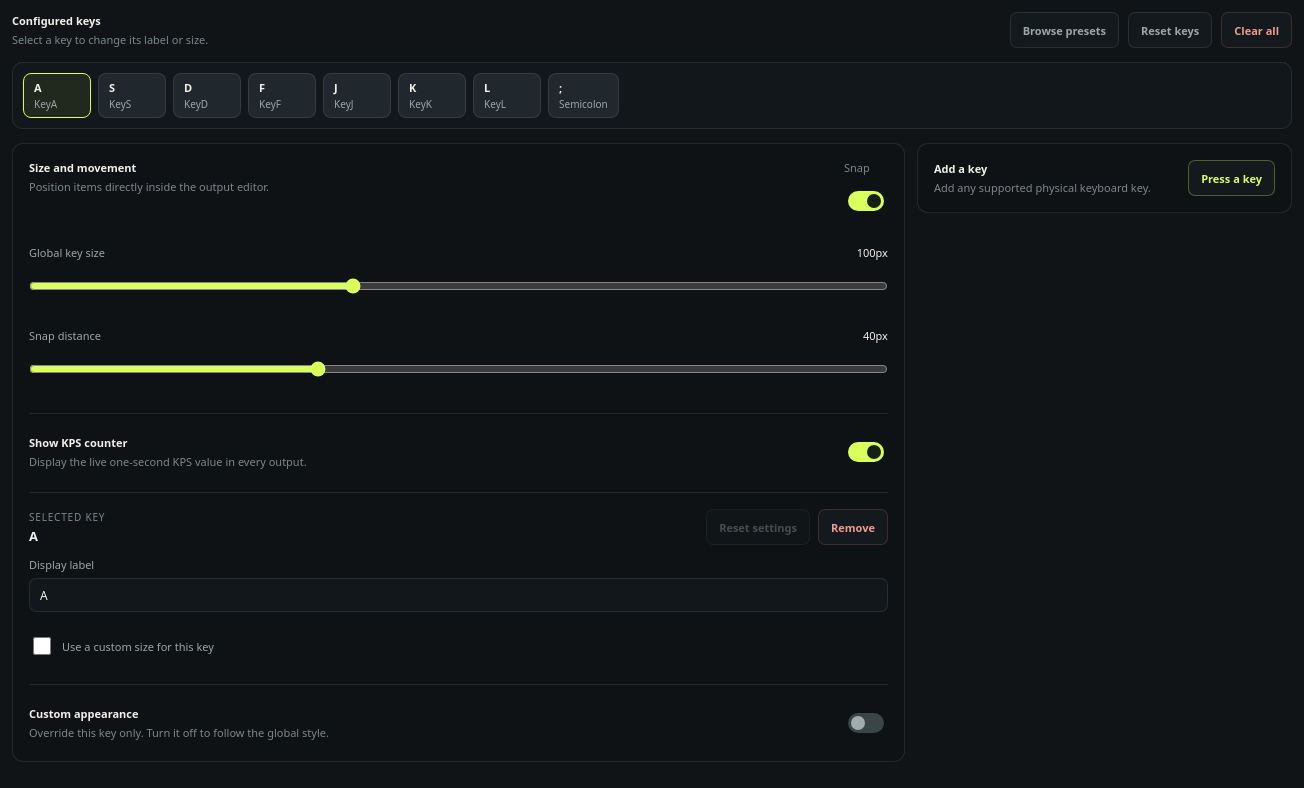
layout confirmation focus management › reset-key cancel returns to reset and completion returns to the label
The width and height of the screenshot is (1304, 788).
Replace the text in the field labelled "Display label" with "Custom" at (458, 595), box [29,578,888,612]
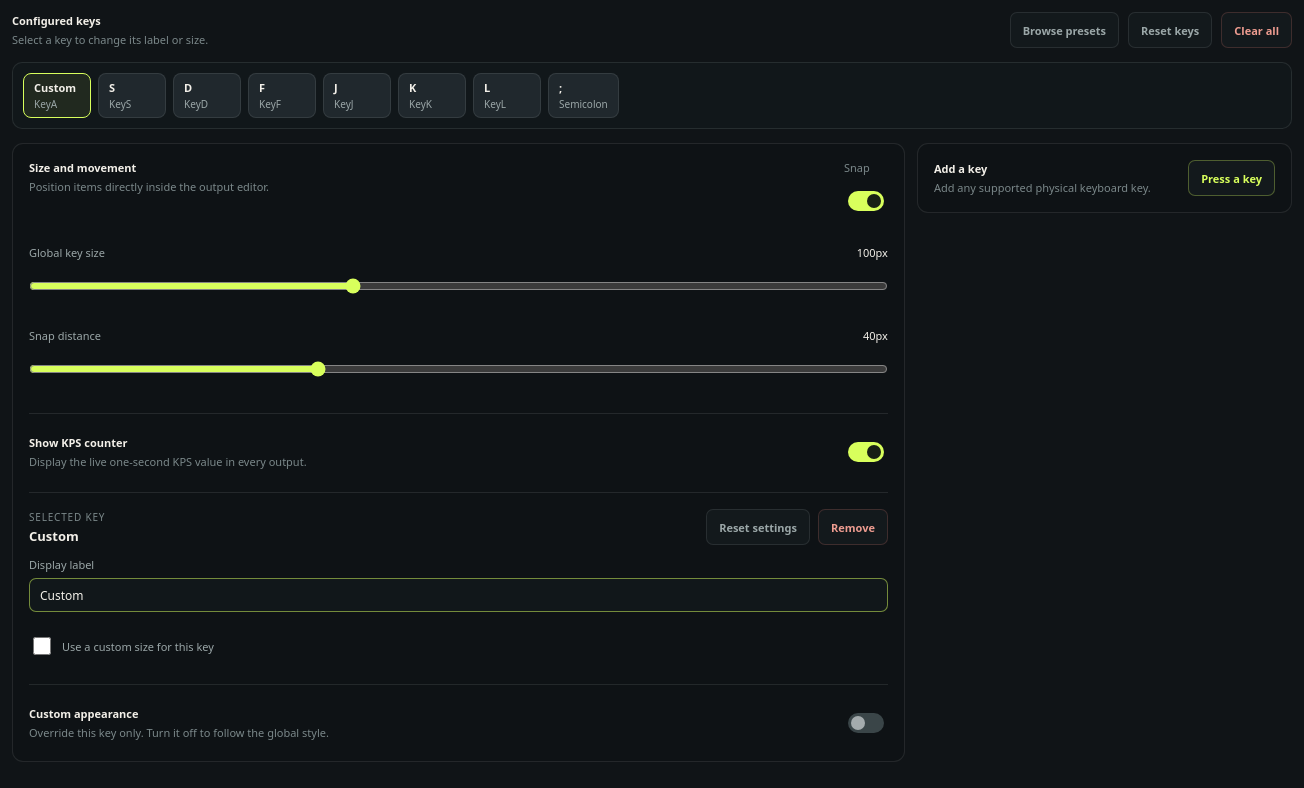
Press Tab
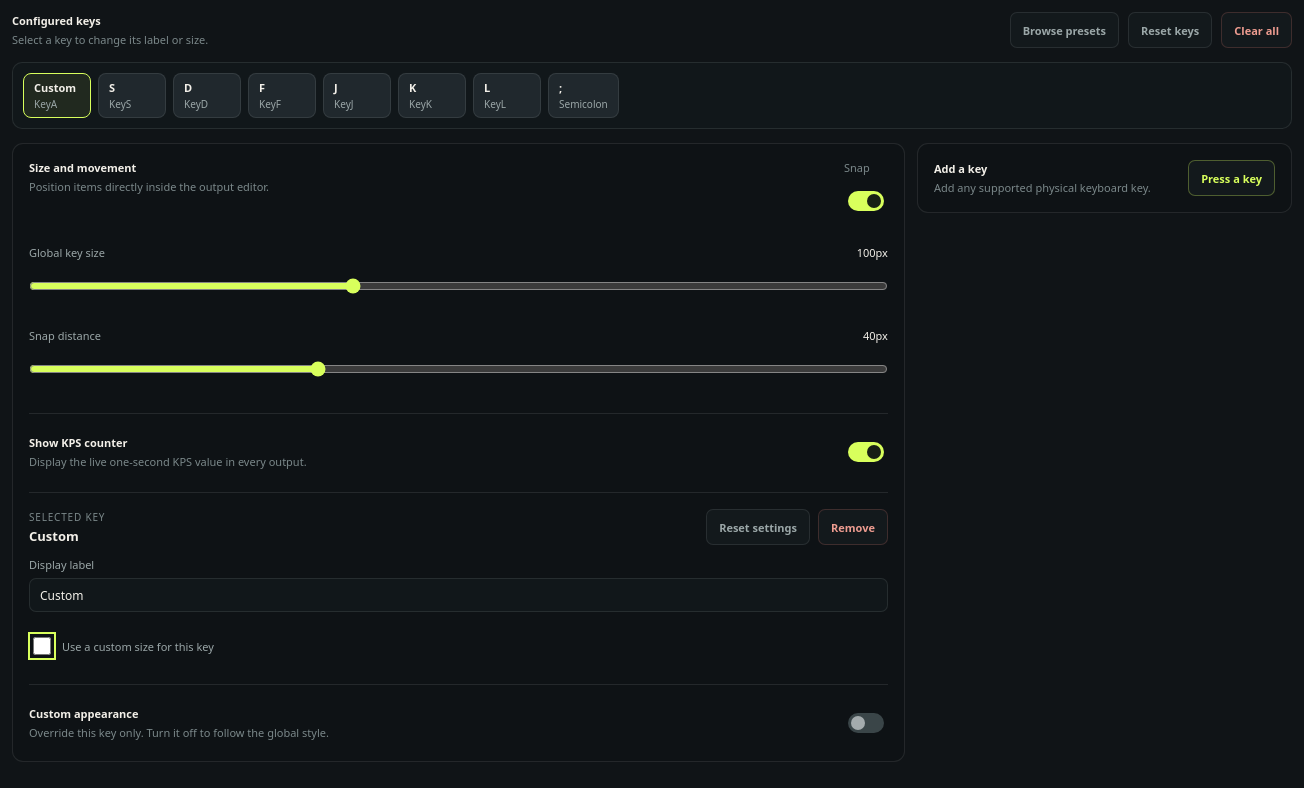
Click the button "Reset settings".
click(758, 527)  # box [706,509,810,545]
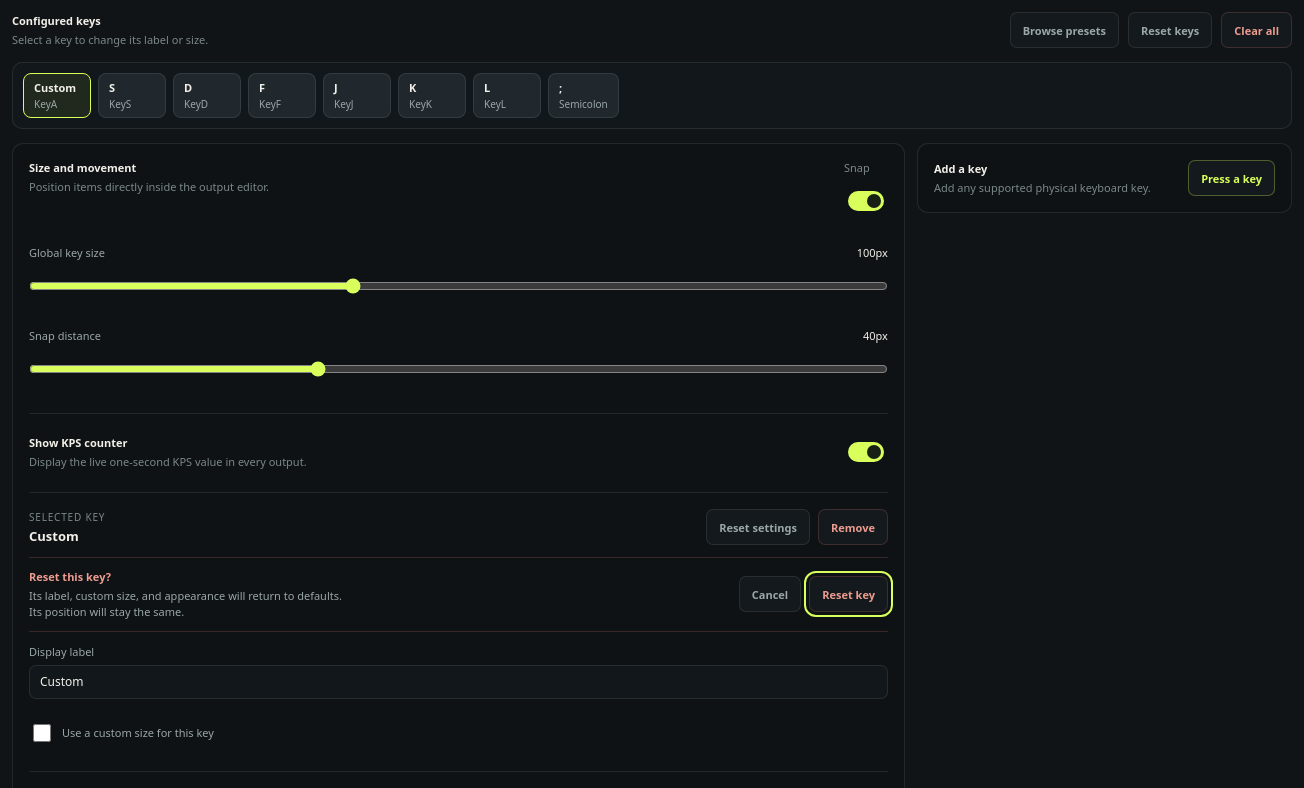
Click the button "Cancel".
click(770, 594)  # box [739,576,801,612]
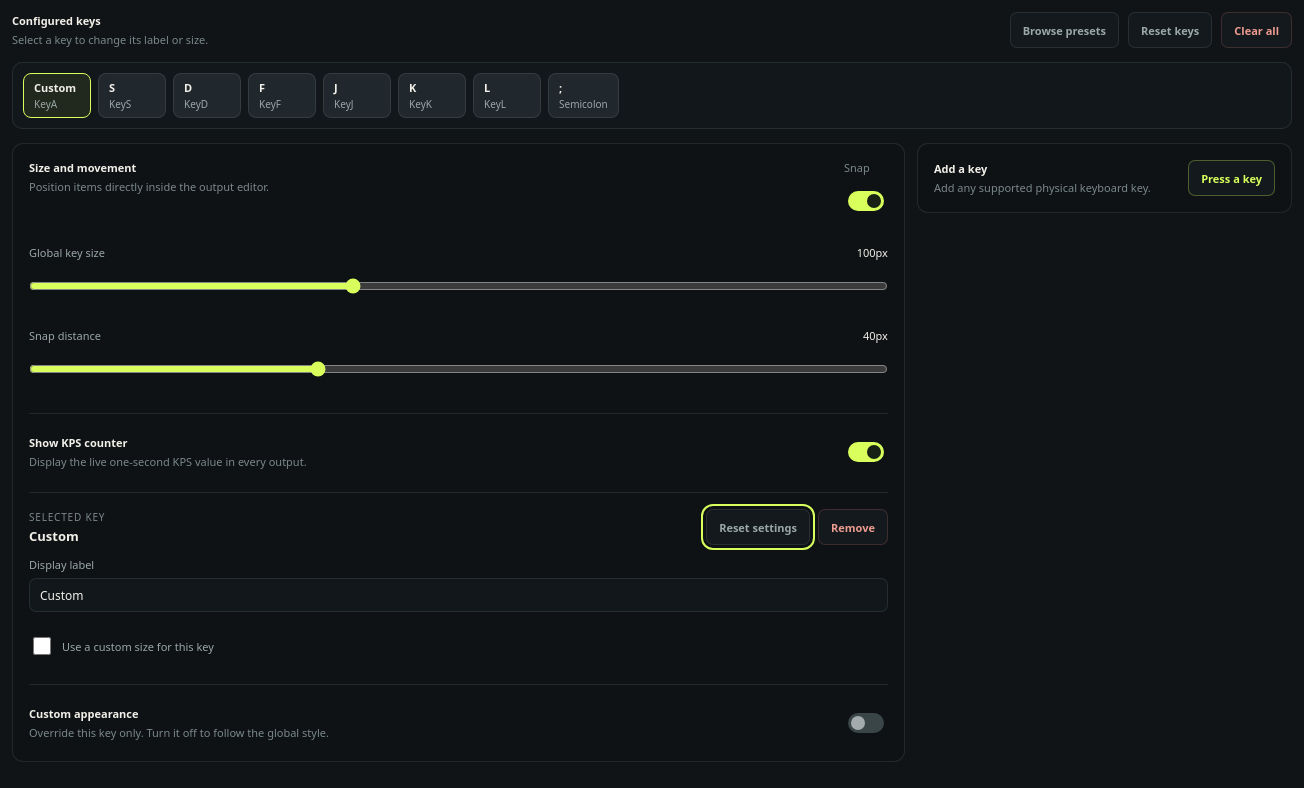
Click the button "Reset settings".
click(758, 527)  # box [706,509,810,545]
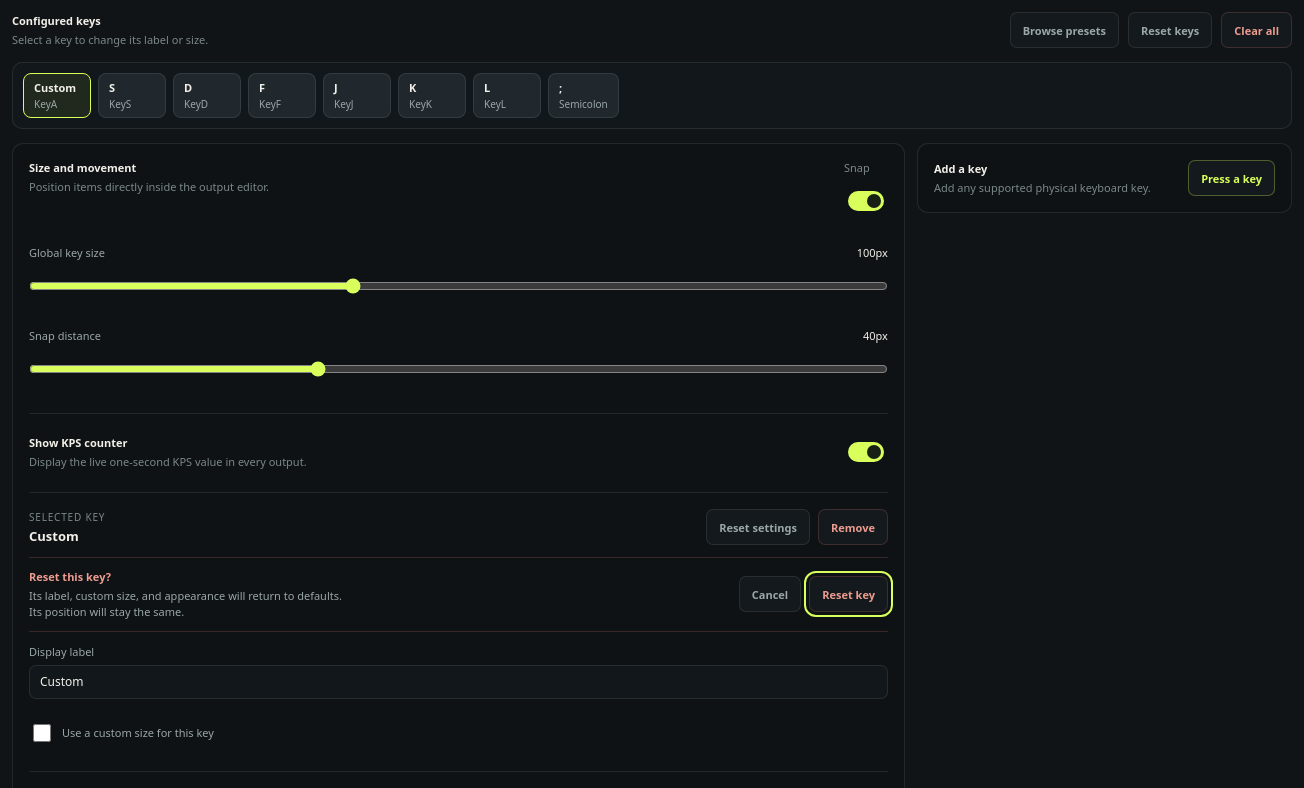
Click the button "Reset key".
click(849, 594)  # box [809,576,888,612]
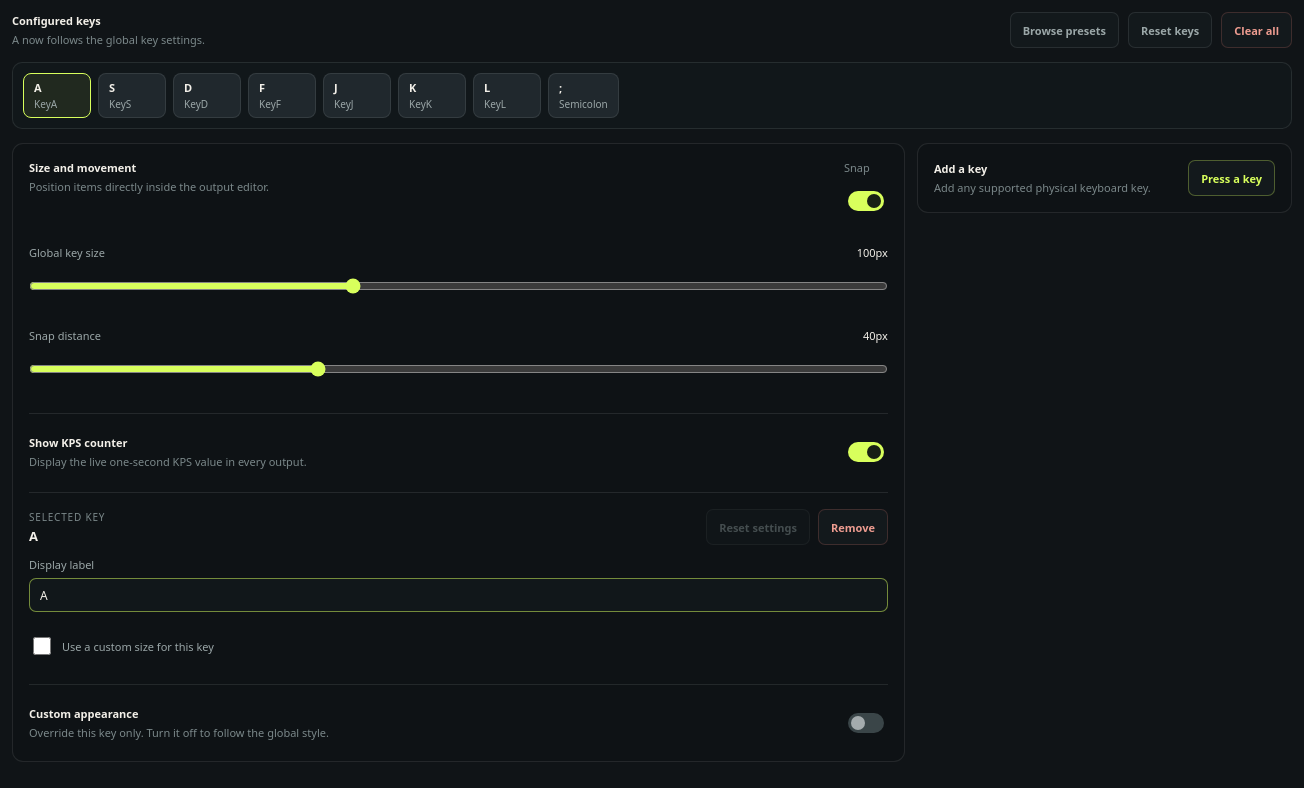
Now the field labelled "Display label" holds "A", box [29,578,888,612]
